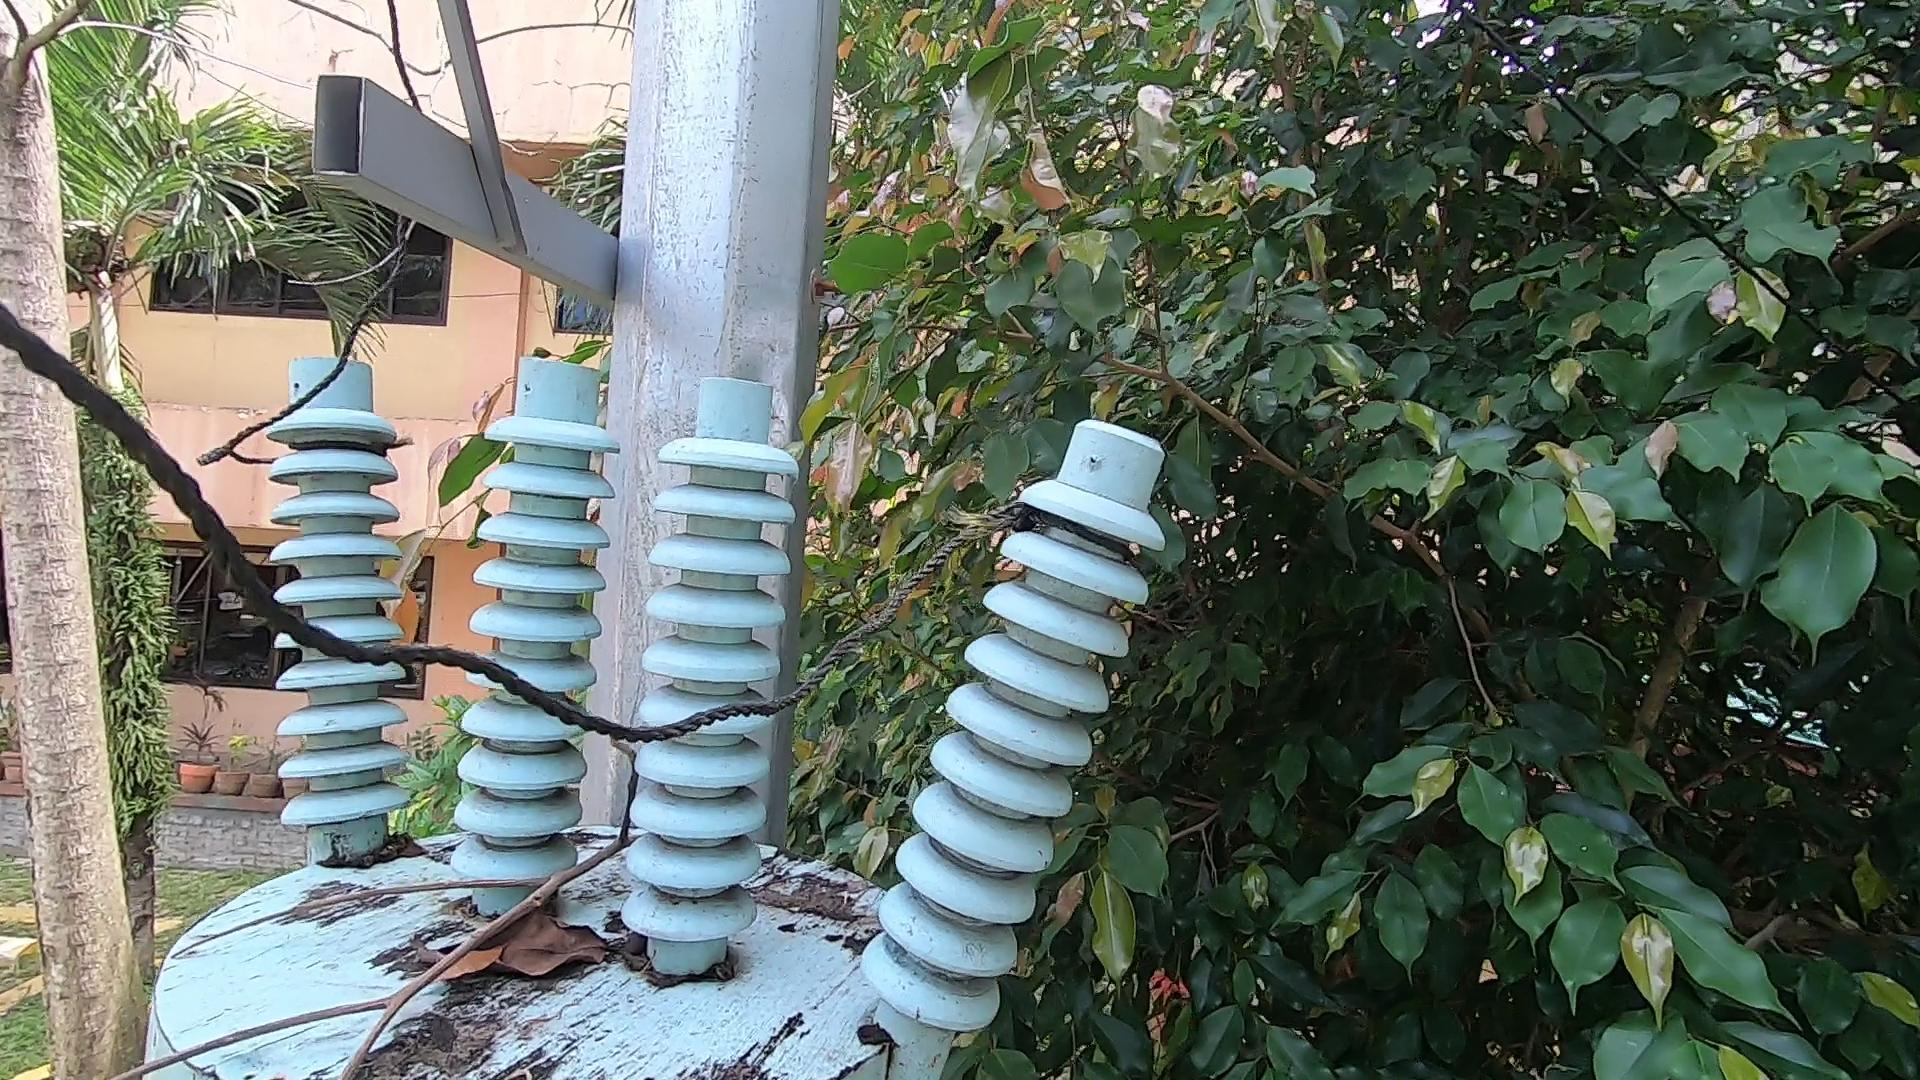leaf: (404, 918, 629, 994), (756, 860, 866, 935), (311, 829, 436, 866)
tree branch: (80, 829, 647, 1080)
